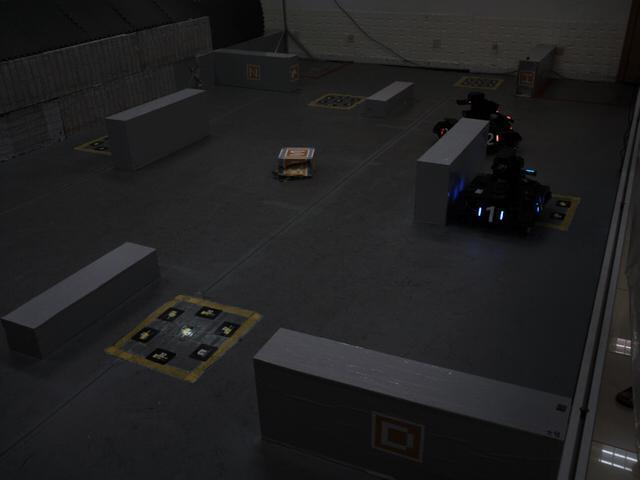armor: (474, 202, 507, 228), (476, 129, 501, 148)
